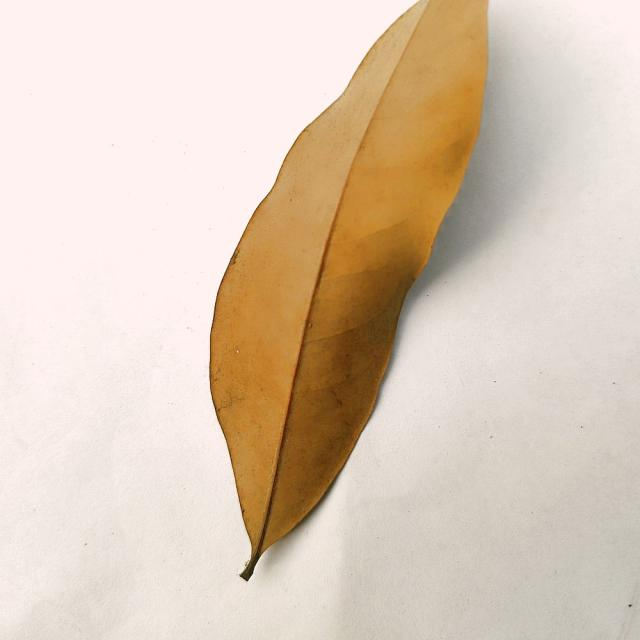Dry_Leaf-Lychee: (209, 0, 492, 578)
